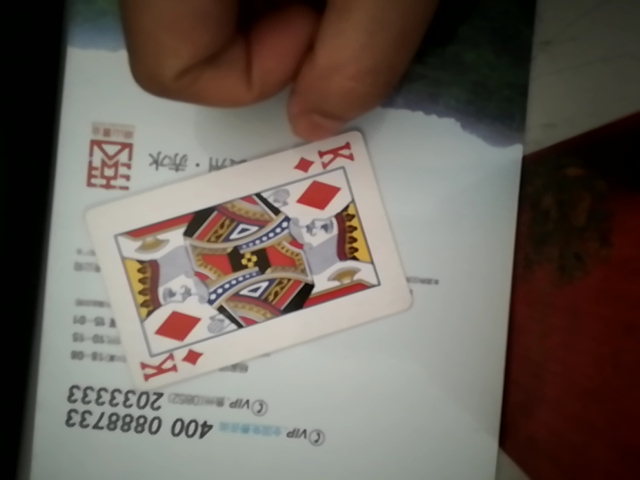fk k: (86, 122, 404, 391)
